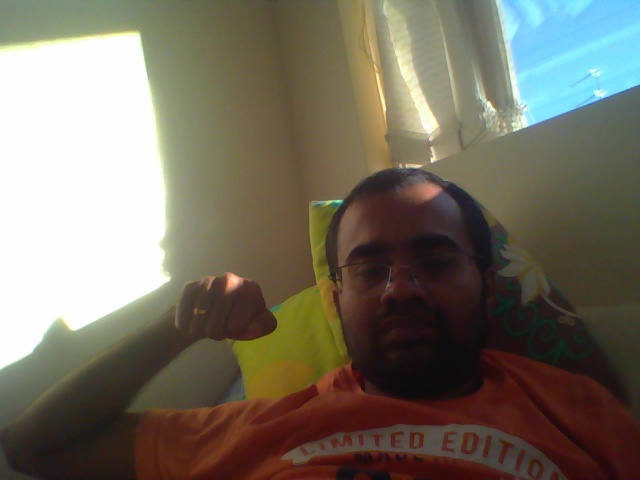Thankyou: (173, 270, 280, 346)
